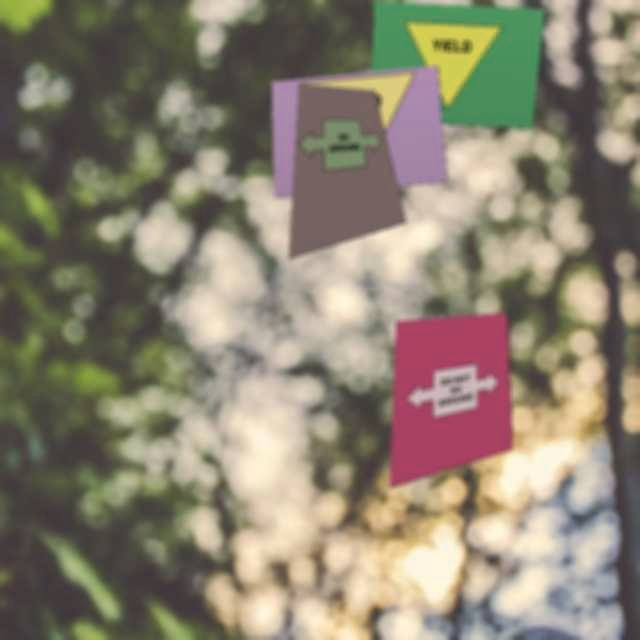DO_NOT_GO_AROUND: (406, 360, 500, 425)
GO_AROUND: (289, 102, 386, 184)
YIELD: (293, 72, 424, 185), (399, 20, 503, 112)
